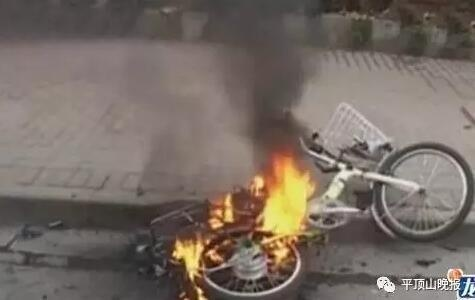fire: (228, 151, 318, 260)
